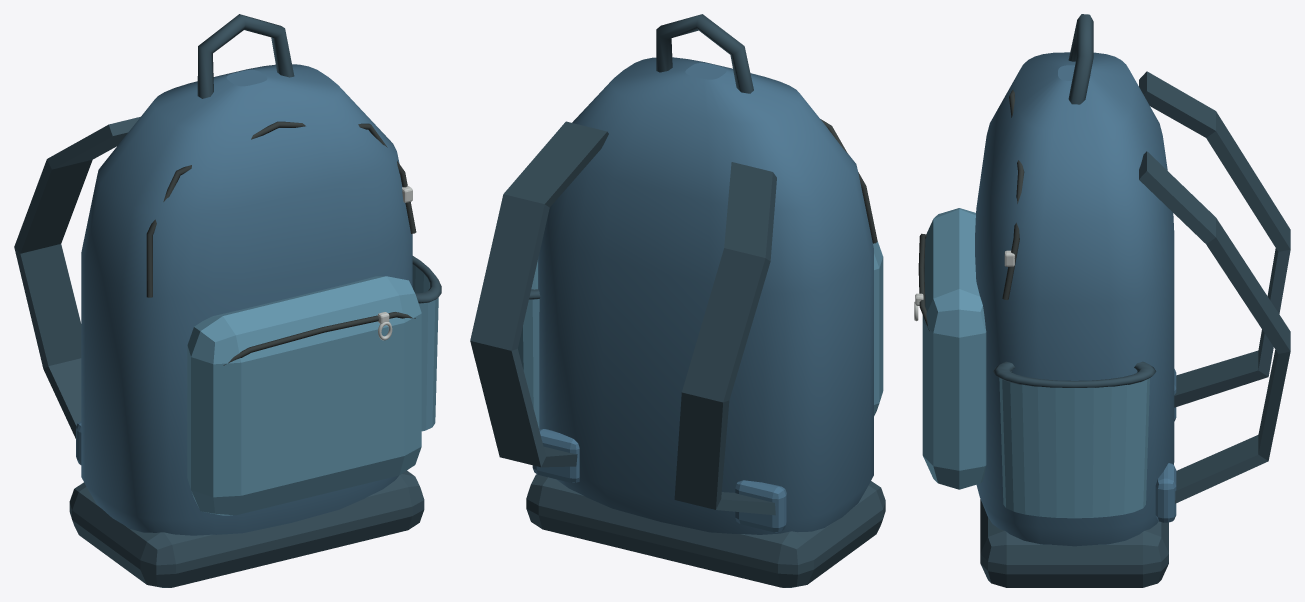
The model's file is backpack.glb.
The picture shows the model from 3 angles, left to right: view 1: azimuth 30°, elevation 25°; view 2: azimuth 150°, elevation 25°; view 3: azimuth 270°, elevation 25°; orthographic projection.
Parts seen in each view (by area): view 1: Backpack rounded main fabric body, Backpack thick front zipper pocket, Backpack flat reinforced standing base, Backpack attached padded shoulder strap -1, Backpack attached top carry handle, Backpack open side bottle pocket, Backpack arched main compartment zipper, Backpack front pocket zipper, Backpack padded side pocket lip; view 2: Backpack rounded main fabric body, Backpack attached padded shoulder strap 1, Backpack attached padded shoulder strap -1, Backpack flat reinforced standing base, Backpack attached top carry handle, Backpack open side bottle pocket, Backpack lower strap anchor -1, Backpack thick front zipper pocket, Backpack lower strap anchor 1, Backpack arched main compartment zipper; view 3: Backpack rounded main fabric body, Backpack open side bottle pocket, Backpack thick front zipper pocket, Backpack attached padded shoulder strap 1, Backpack attached padded shoulder strap -1, Backpack flat reinforced standing base, Backpack attached top carry handle, Backpack padded side pocket lip, Backpack lower strap anchor 1, Backpack arched main compartment zipper, Backpack front pocket zipper.
Part boxes in pixels (x1,y1,x2,y2): Backpack rounded main fabric body: [81, 64, 412, 535]; Backpack thick front zipper pocket: [187, 276, 421, 515]; Backpack flat reinforced standing base: [69, 470, 424, 587]; Backpack attached padded shoulder strap -1: [14, 117, 140, 438]; Backpack attached top carry handle: [197, 14, 294, 98]; Backpack open side bottle pocket: [412, 265, 438, 430]; Backpack arched main compartment zipper: [146, 121, 416, 297]; Backpack front pocket zipper: [223, 312, 415, 365]; Backpack padded side pocket lip: [412, 256, 441, 303]; Backpack rounded main fabric body: [538, 57, 873, 534]; Backpack attached padded shoulder strap 1: [470, 121, 608, 467]; Backpack attached padded shoulder strap -1: [674, 162, 776, 515]; Backpack flat reinforced standing base: [526, 474, 885, 587]; Backpack attached top carry handle: [656, 14, 753, 93]; Backpack open side bottle pocket: [518, 260, 539, 428]; Backpack lower strap anchor -1: [735, 480, 786, 532]; Backpack thick front zipper pocket: [873, 241, 883, 415]; Backpack lower strap anchor 1: [532, 429, 579, 482]; Backpack arched main compartment zipper: [820, 119, 877, 243]; Backpack rounded main fabric body: [975, 52, 1174, 546]; Backpack open side bottle pocket: [999, 371, 1149, 517]; Backpack thick front zipper pocket: [922, 208, 986, 489]; Backpack attached padded shoulder strap 1: [1139, 151, 1290, 503]; Backpack attached padded shoulder strap -1: [1139, 71, 1290, 407]; Backpack flat reinforced standing base: [980, 499, 1168, 587]; Backpack attached top carry handle: [1068, 14, 1093, 104]; Backpack padded side pocket lip: [993, 361, 1156, 387]; Backpack lower strap anchor 1: [1155, 463, 1176, 522]; Backpack arched main compartment zipper: [1002, 90, 1024, 299]; Backpack front pocket zipper: [918, 233, 929, 330].
Size of the model in its own units: 0.353 by 0.5422 by 0.3588.
